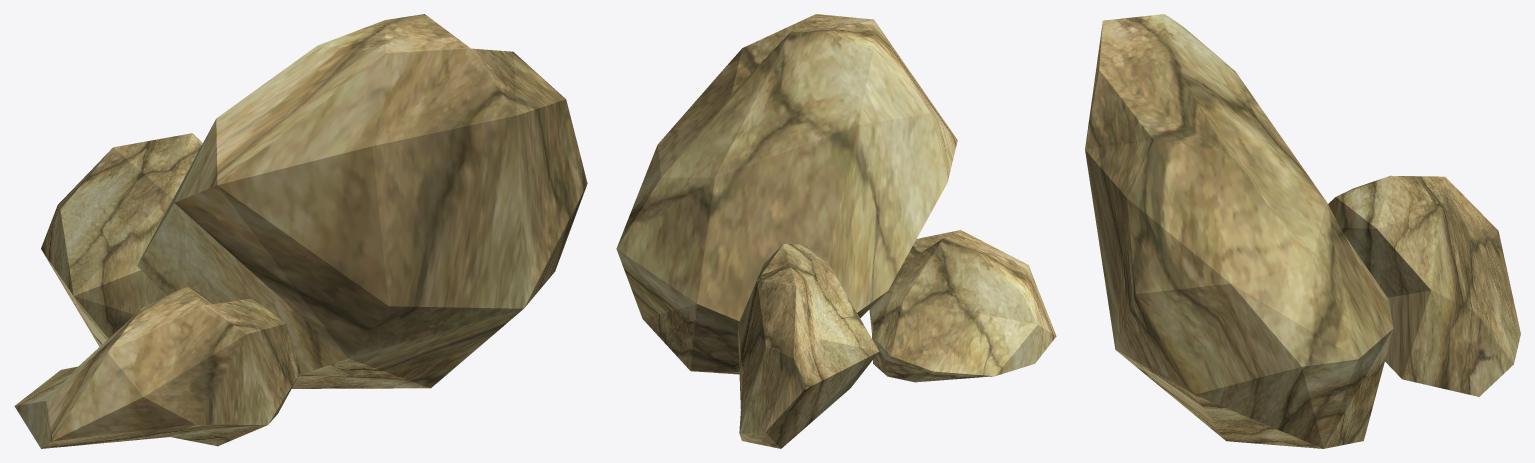
File: C3SNLARGEROCKB.obj
3 renders of one model, left to right at view 1: azimuth 30°, elevation 25°; view 2: azimuth 150°, elevation 25°; view 3: azimuth 270°, elevation 25°, orthographic. The views are drawn at different scales.
Visible parts, largest first — view 1: Node 0; view 2: Node 0; view 3: Node 0.
Boxes of the visible parts, box(x1,y1,x2,y2) form: Node 0: box(14, 14, 587, 448); Node 0: box(616, 14, 1056, 448); Node 0: box(1085, 14, 1520, 448).
Size of the model in its own units: 19.46 by 15.1 by 15.37.
1 material, 1 textured.
